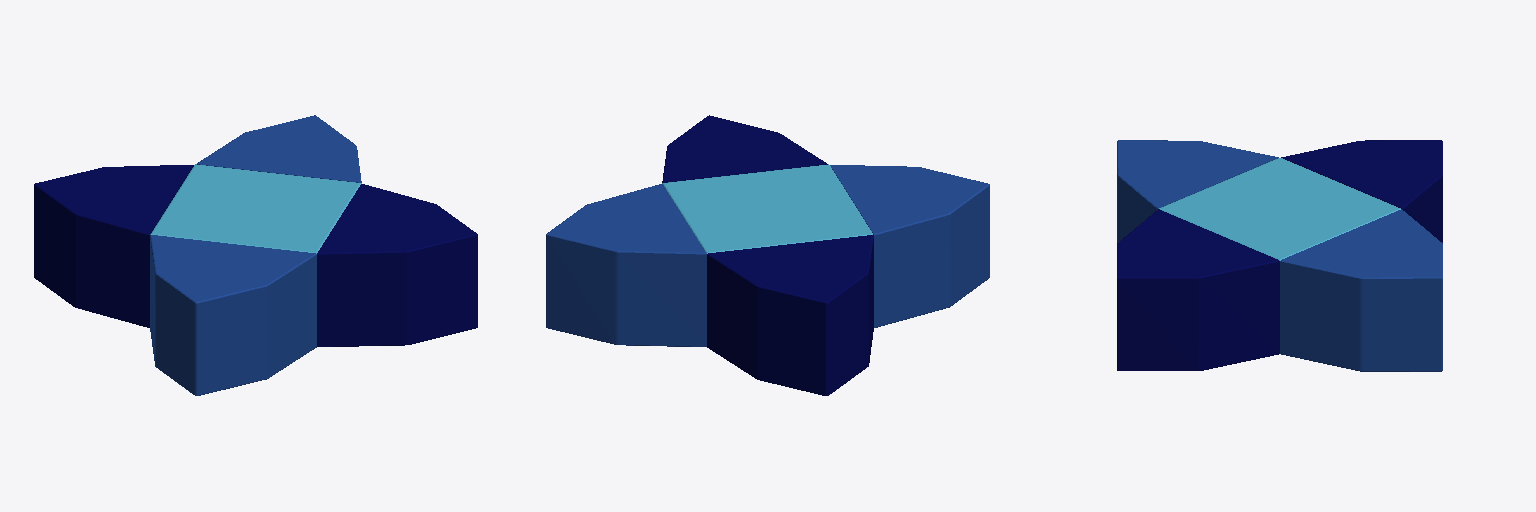
Rendered from flixel.obj.
3 renders of one model, left to right at view 1: azimuth 30°, elevation 25°; view 2: azimuth 150°, elevation 25°; view 3: azimuth 270°, elevation 25°, orthographic.
Parts seen in each view (by area): view 1: Top_Right, Bottom_Right, Top_Left, Center, Bottom_Left; view 2: Top_Left, Bottom_Left, Top_Right, Center, Bottom_Right; view 3: Bottom_Left, Bottom_Right, Center, Top_Left, Top_Right.
Boxes of the visible parts, x1,y1,x2,y2 form: Top_Right: [150, 235, 316, 395]; Bottom_Right: [317, 184, 477, 346]; Top_Left: [34, 165, 193, 327]; Center: [150, 164, 361, 253]; Bottom_Left: [197, 115, 361, 182]; Top_Left: [707, 235, 873, 395]; Bottom_Left: [546, 184, 706, 346]; Top_Right: [830, 165, 989, 327]; Center: [662, 164, 872, 253]; Bottom_Right: [662, 115, 827, 182]; Bottom_Left: [1280, 209, 1442, 371]; Bottom_Right: [1117, 209, 1279, 370]; Center: [1159, 158, 1400, 260]; Top_Left: [1281, 140, 1442, 242]; Top_Right: [1117, 140, 1278, 242].
Size of the model in its own units: 100 by 32.2 by 100.